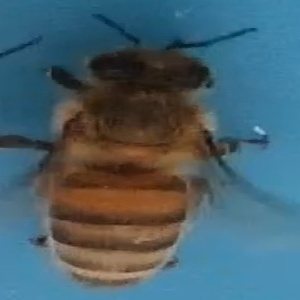bee: (33, 12, 278, 291)
